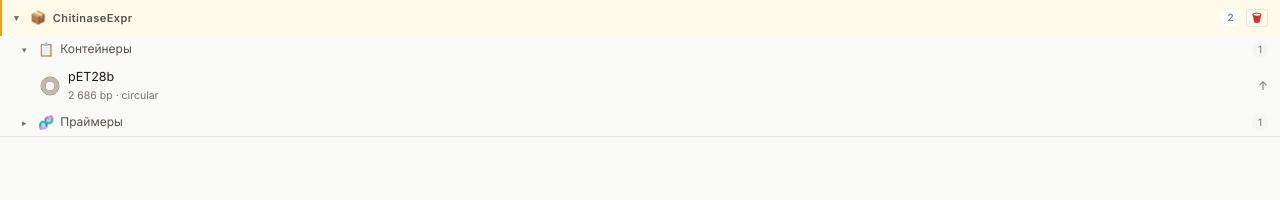
Test case: K2 — ProjectZone (post M-X.7c K4 — DAG removed, [active] gated on currentProjectId) › shows Контейнеры / Праймеры sub-folders only (DAG dropped per DEC-UIRREV-DAG-NOT-FOLDER-01)
Expected: the button with test id "tree-folder-containers-pa" is shown, [0,36,1279,63]
Expected: the button with test id "tree-item-project-c1" is shown, [0,63,1279,108]
Step 1. Click the button with test id "tree-folder-primers-pa" → (92, 122), box [0,108,1279,136]
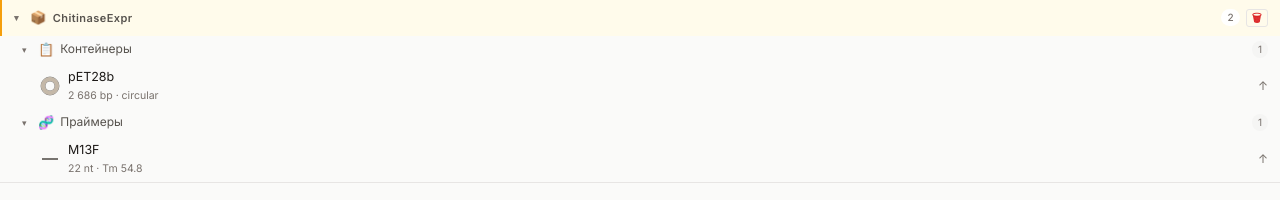
Expected: the button with test id "tree-item-project-pr1" is shown, [0,136,1279,182]
